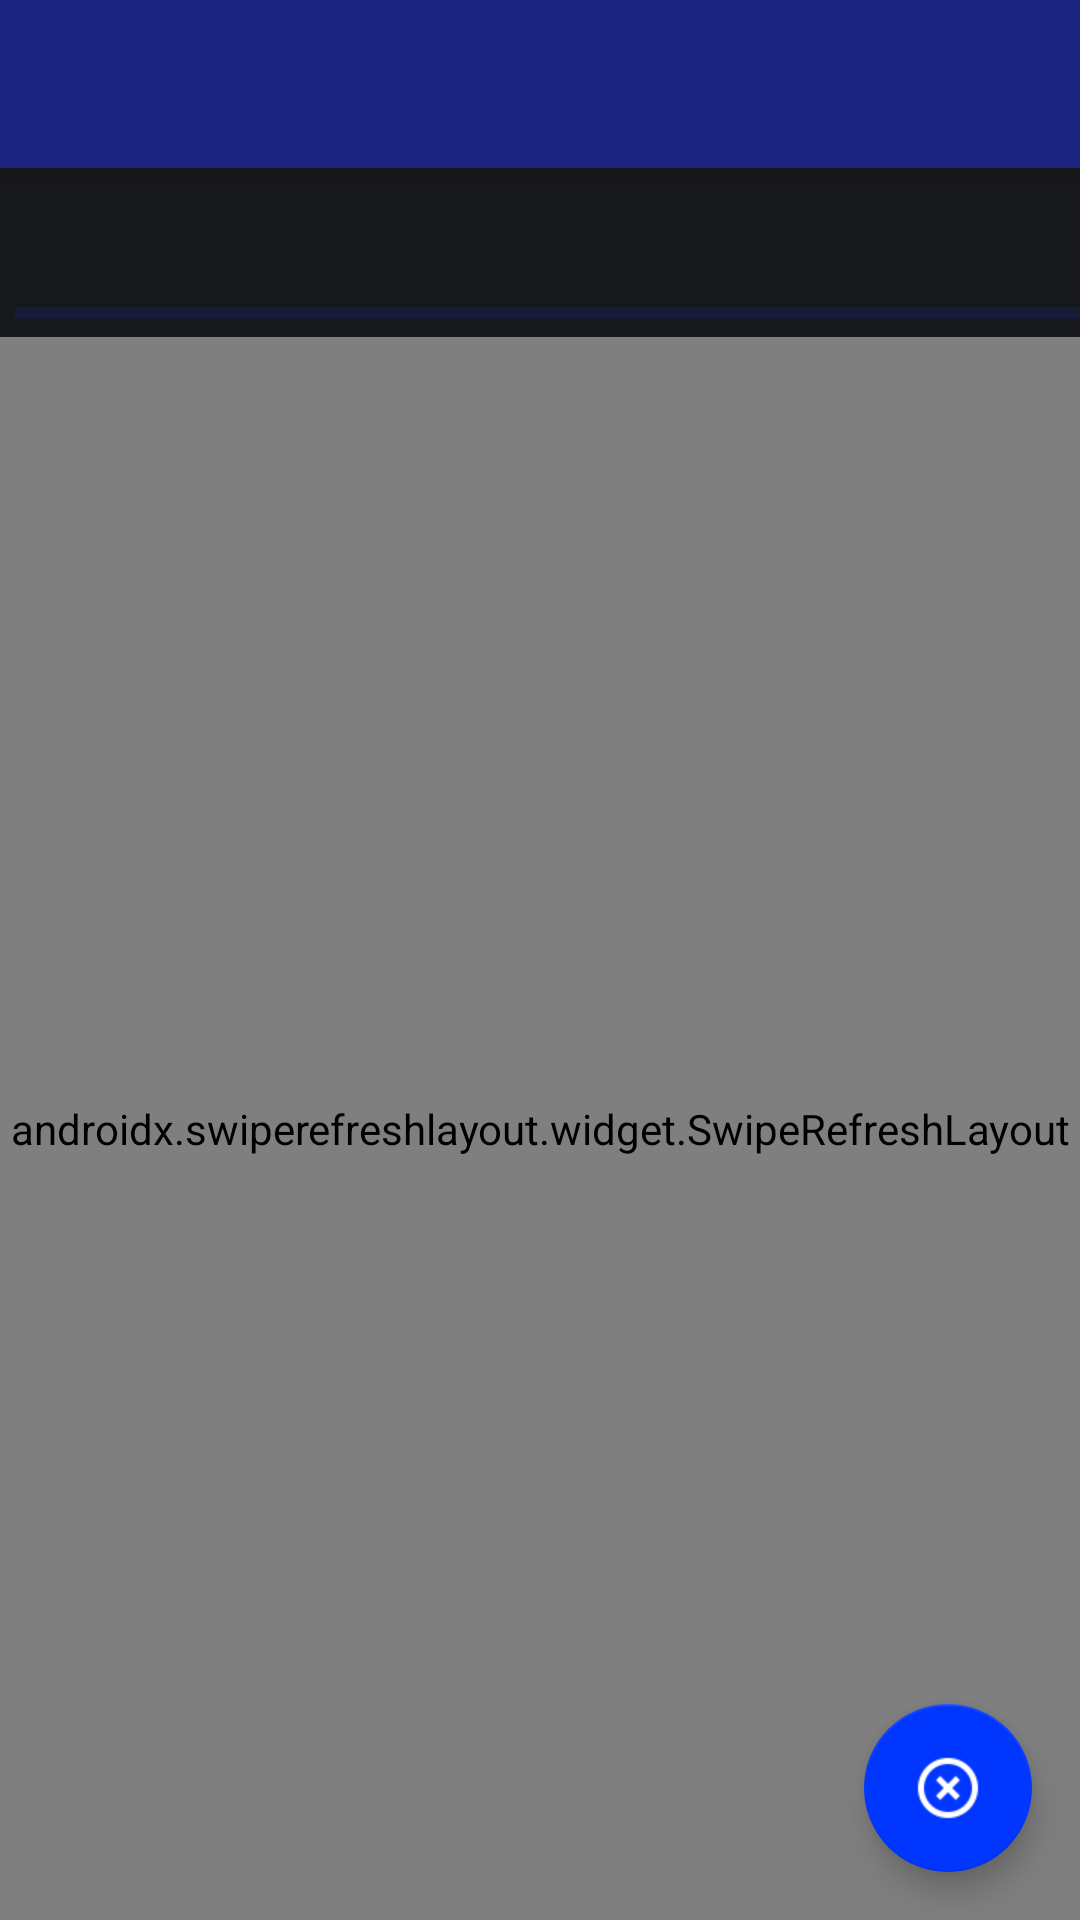

Icons on this 1080 x 1920 Android screen, each with the point to tap as point (x, y):
force stop: point (948, 1788)
